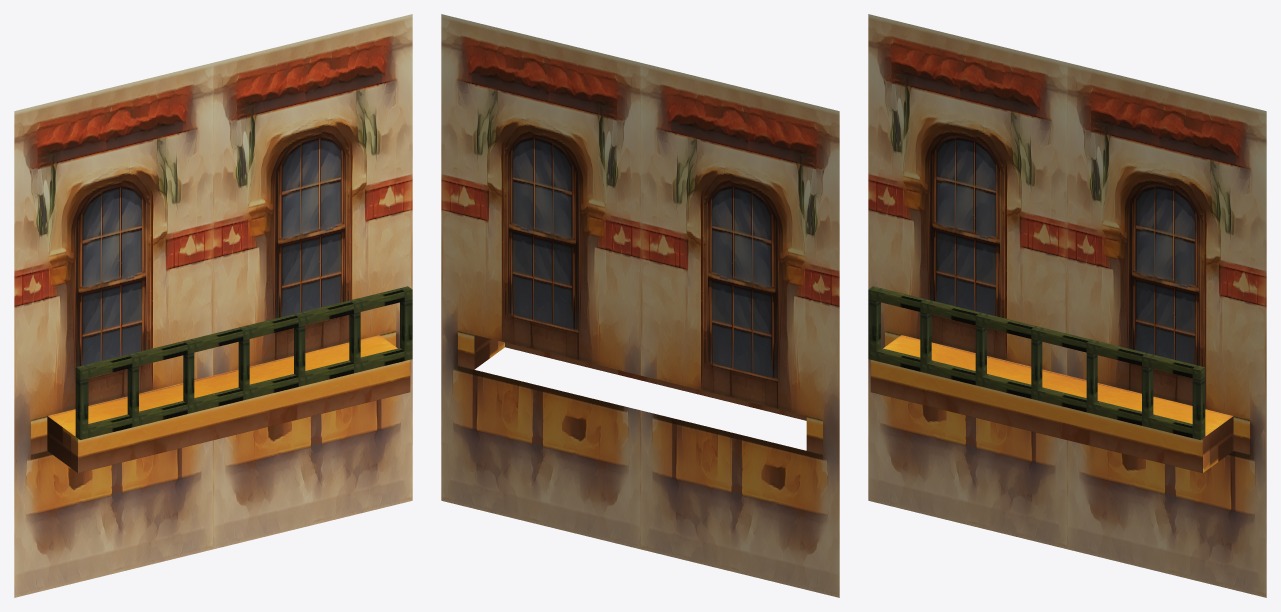
Rendered from SPN_U_Bay3B.fbx.
The picture shows the model from 3 angles, left to right: view 1: azimuth 30°, elevation 25°; view 2: azimuth 150°, elevation 25°; view 3: azimuth 330°, elevation 25°; orthographic projection.
Parts seen in each view (by area): view 1: SPN_U_Bay3B; view 2: SPN_U_Bay3B; view 3: SPN_U_Bay3B.
Boxes of the visible parts, x1=… form: SPN_U_Bay3B: x1=14, y1=14, x2=412, y2=597; SPN_U_Bay3B: x1=441, y1=14, x2=839, y2=597; SPN_U_Bay3B: x1=868, y1=14, x2=1266, y2=597.
Size of the model in its own units: 3 by 0.43 by 3.5.
Materials: 1 (1 with a texture image).
